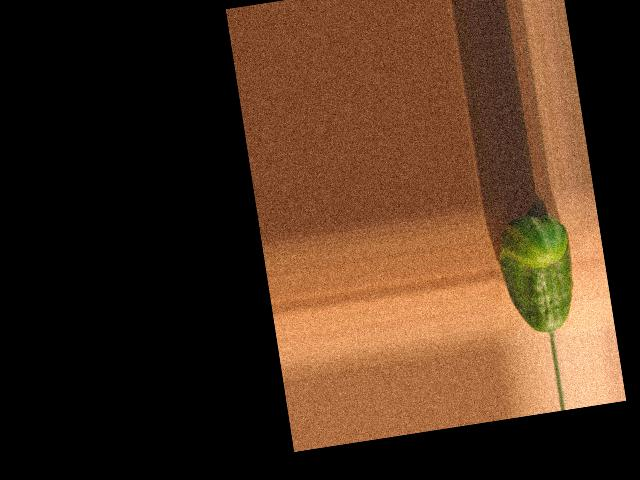cucumber: (494, 211, 583, 337)
